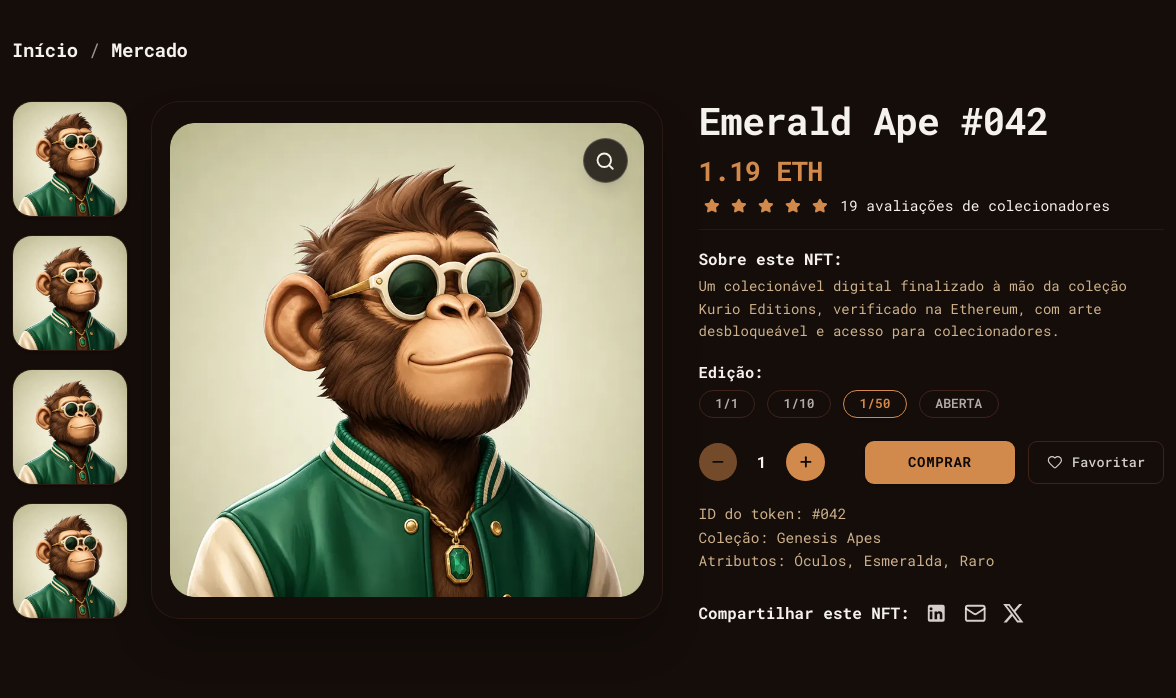
Test: NftDetailPage Integration & Accessibility (C75) › deve permitir interação no seletor de quantidade (incrementar e decrementar)
Check: the button named "Diminuir quantidade" is disabled, box [698,443,737,481]
// Incrementa para 2
Click the button named "Aumentar quantidade" at (805, 462), box [786,443,825,481]
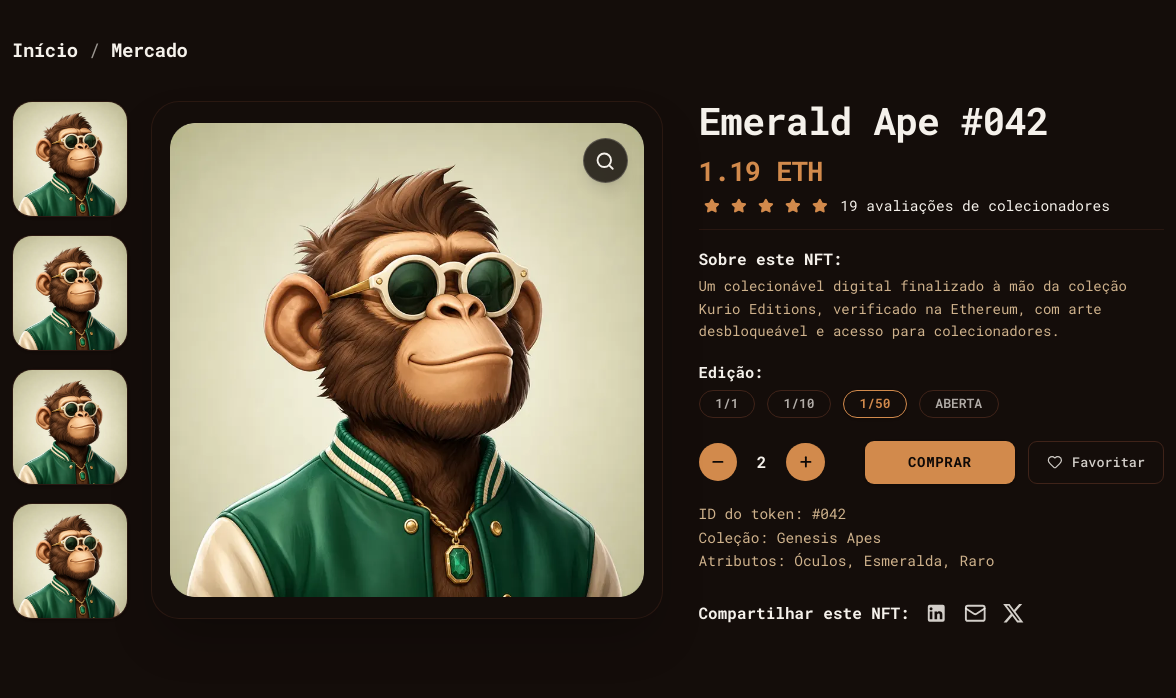
Check: the text "2" is shown, box [698,100,1048,138]
Check: the button named "Diminuir quantidade" is enabled
// Decrementa de volta para 1
Click the button named "Diminuir quantidade" at (718, 462), box [698,443,737,481]
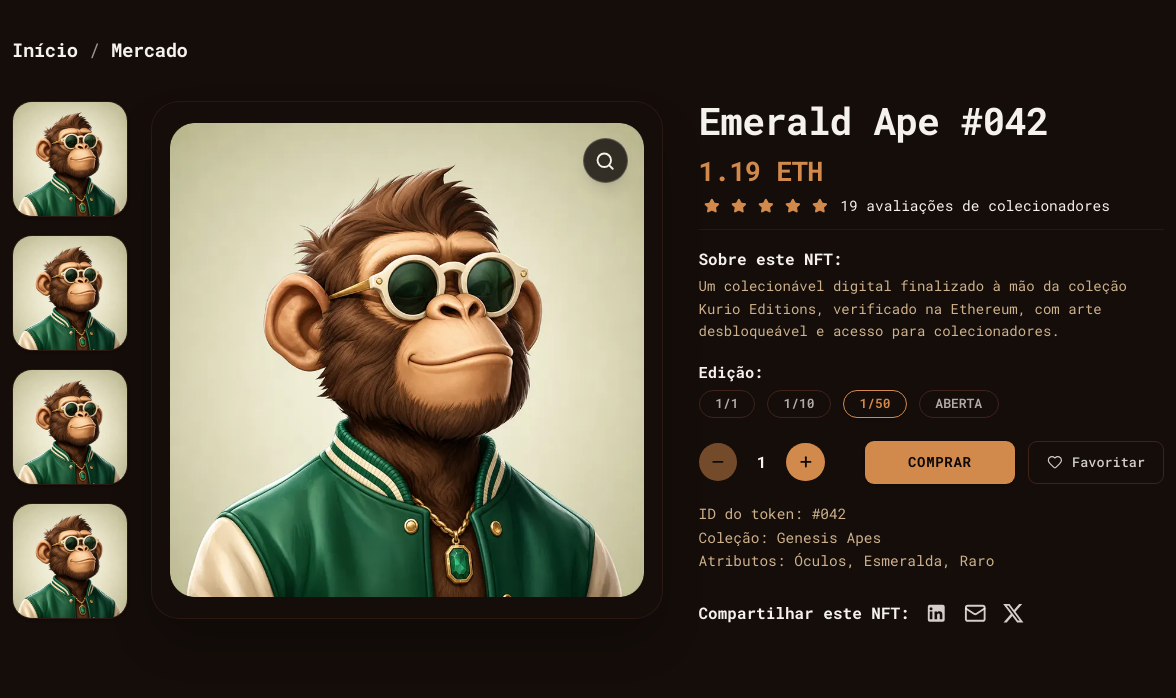
Check: the text "1" is shown, box [698,152,761,188]
Check: the button named "Diminuir quantidade" is disabled, box [698,443,737,481]
